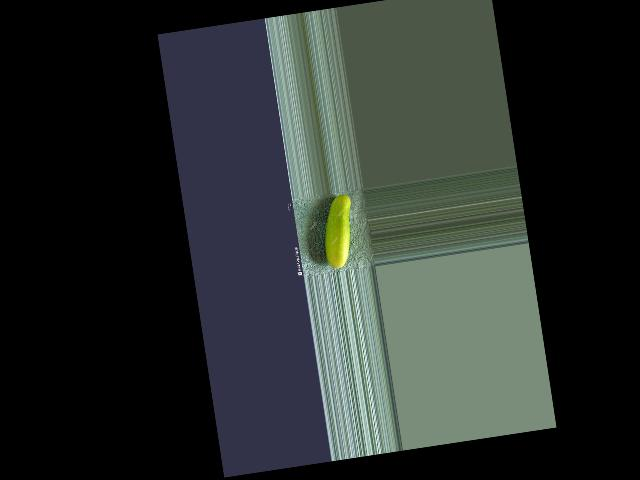cucumber: (317, 193, 360, 269)
